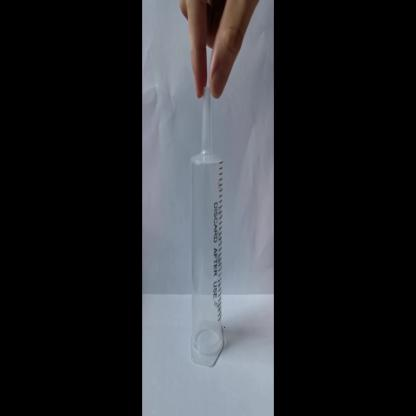dry: (187, 96, 227, 370)
